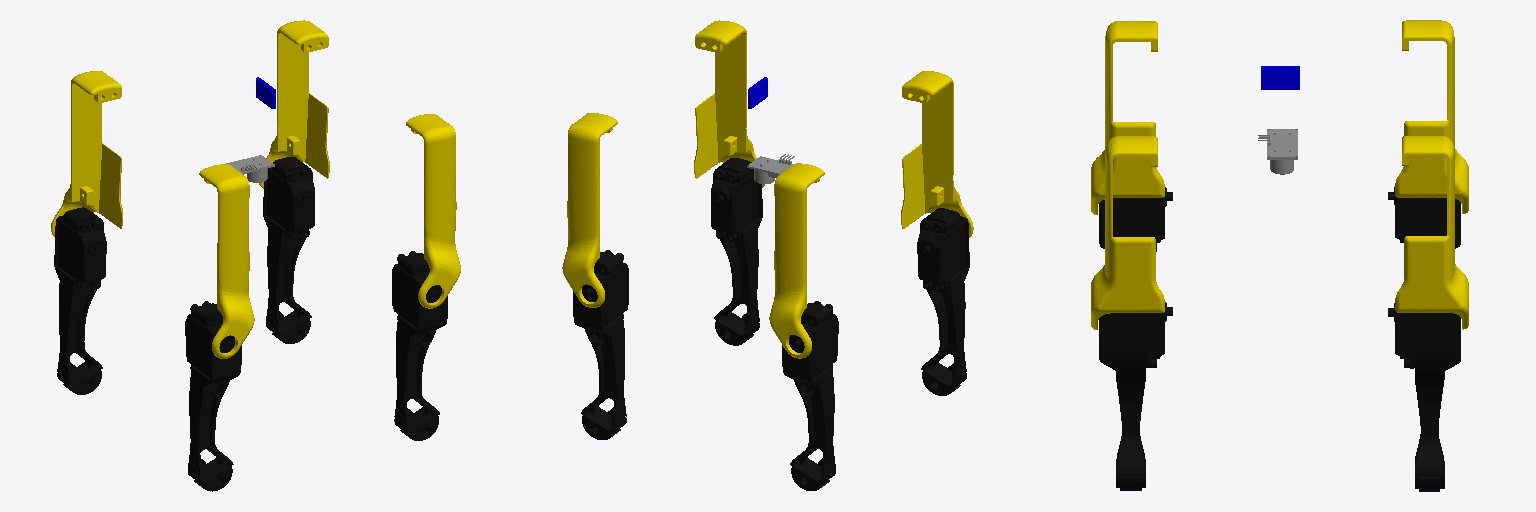
The robot description file, URDF, robot "SpotMicroAI":
<?xml version="1.0" encoding="utf-8"?>
<!-- =================================================================================== -->
<!-- |    This document was autogenerated by xacro from urdf/spotmicroai.urdf.xacro    | -->
<!-- |    EDITING THIS FILE BY HAND IS NOT RECOMMENDED                                 | -->
<!-- =================================================================================== -->
<robot name="SpotMicroAI">
  <material name="yellow">
    <color rgba="0.92 0.83 0.0 1"/>
  </material>
  <material name="black">
    <color rgba="0.1 0.1 0.1 1"/>
  </material>
  <material name="grey">
    <color rgba="0.6 0.6 0.6 1"/>
  </material>
  <material name="blue">
    <color rgba="0.0 0.0 1.0 1"/>
  </material>
  <!-- Params -->
  <!-- Macros -->
  <!-- Robot Body -->
  <link name="base_link">
    <visual>
      <geometry>
        <mesh filename="package://spotmicro_cpp_pkg/mesh/body_frame.STL" scale="0.001 0.001 0.001"/>
      </geometry>
      <material name="black"/>
      <origin rpy="1.571 0 -1.571" xyz="0.1214 0.056 -0.035"/>
    </visual>
    <collision>
      <geometry>
        <box size="0.14 0.114 0.08"/>
      </geometry>
      <origin rpy="0 0 0" xyz="0 0 -0.0025"/>
    </collision>
    <inertial>
      <mass value="1.23"/>
      <origin xyz="0.01228 0.0046 -0.01105 " rpy="0.0 0.0 0.0"/>
      <inertia ixx="0.00126" ixy="0.000312" ixz="-0.000248" iyy="0.00324" iyz="-0.0000715" izz="0.00369"/>
    </inertial>
  </link>

  <link name="imu_link">
    <visual>
      <geometry>
        <box size="0.016 0.026 0.003"/>
      </geometry>
      <material name="blue"/>
      <origin rpy="0 0 0" xyz="0.0 0.0 0.0"/>
    </visual>
    <inertial>
      <origin xyz="0 0 0" rpy="0 0 0"/>
      <mass value="0.01"/>
      <inertia ixx="1.5e-6" ixy="0" ixz="0" iyy="1.5e-6" iyz="0" izz="1.5e-6"/>
    </inertial>
  </link>
  <joint name="base_imu" type="fixed">
    <parent link = "base_link"/>
    <child link = "imu_link"/>
    <origin rpy="0 1.571 0" xyz = "0 0 0.028"/>
  </joint>

  <link name="bottom_hs_sr04_link">
    <visual>
      <geometry>
        <mesh filename="package://spotmicro_cpp_pkg/mesh/HC_SR04.STL" scale="0.001 0.001 0.001"/>
      </geometry>
      <material name="grey"/>
      <origin rpy="0 1.571 0" xyz="-0.01717 -0.013 0.0213"/>
    </visual>
    <inertial>
      <mass value="0.03"/>
      <origin xyz="0 0 0" rpy="0 0 0"/>
      <inertia ixx="0.0001" ixy="0" ixz="0" iyy="0.0001" iyz="0" izz="0.0001"/>
    </inertial>
  </link>
  <joint name="base_hs_sr04" type="fixed">
    <parent link = "base_link"/>
    <child link="bottom_hs_sr04_link"/>
    <origin rpy="0 1.571 0" xyz = "-0.0185 -0.0016 -0.042"/>
  </joint>
  <!-- Lidar Backpack -->
  <!-- <link name="lidar_link">
    <visual>
      <geometry>
        <mesh filename="package://spotmicro_cpp_pkg/meshes/rplidar_main.STL" scale="0.001 0.001 0.001"/>
      </geometry>
      <material name="black"/>
      <origin rpy="1.57075 0 0" xyz="-0.06425 0.02885 0"/>
    </visual>
    <collision>
      <geometry>
        <box size="0.0985 0.0577 0.07"/>
      </geometry>
      <origin rpy="0 0 0" xyz="0 0 0"/>
    </collision>
    <inertial>
      <mass value="0.50"/>
      <inertia ixx="100" ixy="0" ixz="0" iyy="100" iyz="0" izz="100"/>
    </inertial>
  </link>
  <joint name="base_lidar" type="fixed">
    <parent link="base_link"/>
    <child link="lidar_link"/>
    <origin xyz="0 0 0.035"/>
  </joint> -->

  <link name="rear_link">
    <visual>
      <geometry>
        <mesh filename="package://spotmicro_cpp_pkg/mesh/bottom_rear.STL" scale="0.001 0.001 0.001"/>
      </geometry>
      <origin rpy="1.571 0 1.571" xyz="-0.093 -0.064 -0.04499"/>
      <material name="yellow"/>
    </visual>
    <collision>
      <geometry>
        <box size="0.06 0.11 0.07"/>
      </geometry>
      <origin rpy="0 0 0" xyz="0.145 0 0"/>
    </collision>
    <inertial>
      <mass value="0.16"/>
      <origin rpy="0 0 0" xyz="-0.00002 0.03963 0.03773"/>
      <inertia ixx="0.00153" ixy="0" ixz="0" iyy="0.00134" iyz="0.000283" izz="0.000611"/>
    </inertial>
  </link>
  <joint name="base_rear" type="fixed">
    <parent link="base_link"/>
    <child link="rear_link"/>
  </joint>

  <link name="front_link">
    <visual>
      <geometry>
        <mesh filename="package://spotmicro_cpp_pkg/mesh/F_cover.stl" scale="0.001 0.001 0.001"/>
      </geometry>
      <origin rpy="0 0 0" xyz="-0.128 0 0"/>
      <material name="yellow"/>
    </visual>
    <collision>
      <geometry>
        <box size="0.058 0.11 0.07"/>
      </geometry>
      <origin rpy="0 0 0" xyz="-0.145 0 0"/>
    </collision>
    <inertial>
      <mass value="0.5"/>
      <origin xyz="0.00005 0.04624 0.14229" rpy="0.0 0.0 0.0"/>
      <inertia ixx="0.000337" ixy="0" ixz="0" iyy="0.000944" iyz="0.000281" izz="0.00016833347"/>
    </inertial>
  </link>
  <joint name="base_front" type="fixed">
    <parent link="base_link"/>
    <child link="front_link"/>
  </joint>

  <!-- create Legs -->
  <link name="front_left_shoulder_link">
    <visual>
      <geometry>
        <mesh filename="package://spotmicro_cpp_pkg/mesh/LF_RB_shoulder.STL" scale="0.001 0.001 0.001"/>
      </geometry>
      <origin rpy="1.5701 0 0" xyz="-0.03 0.0105 -0.03825"/>
      <material name="black"/>
    </visual>
    <collision>
      <geometry>
        <box size="0.044 0.038 0.07"/>
      </geometry>
      <origin rpy="0 0 0" xyz="0 0 -0.0095"/>
    </collision>
    <inertial>
      <mass value="0.071"/>
      <inertia ixx="0.0000226" ixy="0" ixz="0" iyy="0.0000178" iyz="0" izz="0.0000238"/>
    </inertial>
  </link>
  <link name="front_left_leg_link_cover">
    <visual>
      <geometry>
        <mesh filename="package://spotmicro_cpp_pkg/mesh/L_arm_cover.STL" scale="0.001 0.001 0.001"/>
      </geometry>
      <origin rpy="0 3.142 0" xyz="0.018 -0.0287 0.025"/>
      <material name="yellow"/>
    </visual>
  </link>
  <link name="front_left_leg_link">
    <visual>
      <geometry>
        <mesh filename="package://spotmicro_cpp_pkg/mesh/L_arm.STL" scale="0.001 0.001 0.001"/>
      </geometry>
      <origin rpy="0 3.142 3.142" xyz="-0.02625 0.036 0.13809"/>
      <material name="black"/>
      <!--        <geometry>
          <box size="0.028 0.036 ${leg_length}"/>
        </geometry>
        <origin rpy="0.0 0.0 0.0" xyz="0.0 0.0 -0.050"/>
        <material name="yellow"/>-->
    </visual>
    <collision>
      <origin rpy="0.0 0.0 0.0" xyz="0.0 0.0 -0.035"/>
      <geometry>
        <box size="0.028 0.036 0.12"/>
      </geometry>
    </collision>
    <inertial>
      <mass value="0.124"/>
      <origin xyz="-0.003 0.001 -0.0407" rpy="0.0 0.0 0.0"/>
      <inertia ixx="0.000396" ixy="0" ixz="0.0000184" iyy="0.000038" iyz="-0.000003" izz="0.0000329"/>
    </inertial>
  </link>
  <link name="front_left_foot_link">
    <visual>
      <geometry>
        <mesh filename="package://spotmicro_cpp_pkg/mesh/Left_writs.STL" scale="0.001 0.001 0.001"/>
      </geometry>
      <origin rpy="0 0 -1.571" xyz="-0.014 0.0277 -0.2048"/>
      <material name="black"/>
    </visual>
    <collision>
      <geometry>
        <box size="0.026 0.020 0.115"/>
      </geometry>
      <origin rpy="0.0 0.0 0.0" xyz="0.0 0.0 -0.050"/>
    </collision>
    <inertial>
      <mass value="0.0657"/>
      <origin xyz="0.00066 0.00011 -0.0292" rpy="0.0 0.0 0.0"/>
      <inertia ixx="0.000164" ixy="0" ixz="0" iyy="0.000161" iyz="0" izz="0.0000107"/>
    </inertial>
  </link>
  <link name="front_left_toe_link">
    <visual>
      <geometry>
        <mesh filename="package://spotmicro_cpp_pkg/meshes/foot.stl" scale="0.001 0.001 0.001"/>
      </geometry>
      <origin rpy="0 -0.40010 0" xyz="0.001 -0.0105 0"/>
      <material name="grey"/>
    </visual>
    <collision>
      <geometry>
        <sphere radius="0.02"/>
      </geometry>
      <origin rpy="0 0 0" xyz="0 0 0"/>
      <contact_coefficients mu="1.1"/>
    </collision>
    <inertial>
      <mass value="0.05"/>
      <inertia ixx="1000" ixy="0" ixz="0" iyy="1000" iyz="0" izz="1000"/>
    </inertial>
  </link>


  <joint name="front_left_shoulder" type="revolute">
    <parent link="base_link"/>
    <child link="front_left_shoulder_link"/>
    <axis xyz="1 0 0"/>
    <origin rpy="0 0 0" xyz="-0.09165 -0.039 0.009"/>
    <limit effort="1000.0" lower="-0.872" upper="0.698" velocity="0.7"/>
    <dynamics damping="0.0" friction="0.5"/>
  </joint>
  <joint name="front_left_leg" type="revolute">
    <parent link="front_left_shoulder_link"/>
    <child link="front_left_leg_link"/>
    <axis xyz="0 1 0"/>
    <origin rpy="0 0 0" xyz="0 -0.0597 -0.01"/>
    <limit effort="1000.0" lower="-1.570" upper="1.570" velocity="0.5"/>
    <dynamics damping="0.0" friction="0.0"/>
  </joint>
  <joint name="front_left_leg_cover_joint" type="fixed">
    <parent link="front_left_leg_link"/>
    <child link="front_left_leg_link_cover"/>
    <origin xyz="0 0 0"/>
  </joint>
  <joint name="front_left_foot" type="revolute">
    <parent link="front_left_leg_link"/>
    <child link="front_left_foot_link"/>
    <axis xyz="0 1 0"/>
    <origin rpy="0 0 0" xyz="-0.01475 0 -0.10699"/>
    <limit effort="1000.0" lower="-0.174" upper="2.268" velocity="0.5"/>
    <dynamics damping="0.0" friction="0.5"/>
  </joint>
  <joint name="front_left_toe" type="fixed">
    <parent link="front_left_foot_link"/>
    <child link="front_left_toe_link"/>
    <origin xyz="0 0 -0.115"/>
  </joint>


  <link name="front_right_shoulder_link">
    <visual>
      <geometry>
        <mesh filename="package://spotmicro_cpp_pkg/mesh/LB_RF_shoulder.STL" scale="0.001 0.001 0.001"/>
      </geometry>
      <origin rpy="1.5701 0 3.142" xyz="0.025 -0.01 -0.03825"/>
      <material name="black"/>
    </visual>
    <collision>
      <geometry>
        <box size="0.044 0.038 0.07"/>
      </geometry>
      <origin rpy="0 0 0" xyz="0 0 -0.0095"/>
    </collision>
    <inertial>
      <mass value="0.071"/>
      <inertia ixx="0.000033462" ixy="0" ixz="0" iyy="0.00003153" iyz="-0.000005" izz="0.000021"/>
    </inertial>
  </link>
  <link name="front_right_leg_link_cover">
    <visual>
      <geometry>
        <mesh filename="package://spotmicro_cpp_pkg/mesh/R_arm_cover.STL" scale="0.001 0.001 0.001"/>
      </geometry>
      <origin rpy="0 3.142 0" xyz="0.018 -0.0222 0.025"/>
      <material name="yellow"/>
    </visual>
  </link>
  <link name="front_right_leg_link">
    <visual>
      <geometry>
        <mesh filename="package://spotmicro_cpp_pkg/mesh/R_arm.STL" scale="0.001 0.001 0.001"/>
      </geometry>
      <origin rpy="0 3.142 3.142" xyz="-0.027 0.0275 0.02029"/>
      <material name="black"/>
      <!--        <geometry>
          <box size="0.028 0.036 ${leg_length}"/>
        </geometry>
        <origin rpy="0.0 0.0 0.0" xyz="0.0 0.0 -0.050"/>
        <material name="yellow"/>-->
    </visual>
    <collision>
      <origin rpy="0.0 0.0 0.0" xyz="0.0 0.0 -0.035"/>
      <geometry>
        <box size="0.028 0.036 0.12"/>
      </geometry>
    </collision>
    <inertial>
      <mass value="0.124"/>
      <origin xyz="-0.003 -0.001 -0.041" rpy="0.0 0.0 0.0"/>
      <inertia ixx="0.000396" ixy="0" ixz="0.0000184" iyy="0.000381" iyz="0" izz="0.0000329"/>
    </inertial>
  </link>
  <link name="front_right_foot_link">
    <visual>
      <geometry>
        <mesh filename="package://spotmicro_cpp_pkg/mesh/Right_writs.STL" scale="0.001 0.001 0.001"/>
      </geometry>
      <origin rpy="0 0 -1.571" xyz="-0.014 0.027 -0.131"/>
      <material name="black"/>
    </visual>
    <collision>
      <geometry>
        <box size="0.026 0.020 0.115"/>
      </geometry>
      <origin rpy="0.0 0.0 0.0" xyz="0.0 0.0 -0.050"/>
    </collision>
    <inertial>
      <mass value="0.066"/>
      <origin xyz="-0.0001 -0.0007 -0.029" rpy="0.0 0.0 0.0"/>
      <inertia ixx="0.000161" ixy="0" ixz="0" iyy="0.000164" iyz="-0.0000017" izz="0.000011"/>
    </inertial>
  </link>
  <link name="front_right_toe_link">
    <visual>
      <geometry>
        <mesh filename="package://spotmicro_cpp_pkg/meshes/foot.stl" scale="0.001 0.001 0.001"/>
      </geometry>
      <origin rpy="0 -0.40010 0" xyz="-0.001 -0.0095 0"/>
      <material name="grey"/>
    </visual>
    <collision>
      <geometry>
        <sphere radius="0.02"/>
      </geometry>
      <origin rpy="0 0 0" xyz="0 0 0"/>
      <contact_coefficients mu="1.1"/>
    </collision>
    <inertial>
      <mass value="0.05"/>
      <inertia ixx="1000" ixy="0" ixz="0" iyy="1000" iyz="0" izz="1000"/>
    </inertial>
  </link>

  <joint name="front_right_shoulder" type="revolute">
    <parent link="base_link"/>
    <child link="front_right_shoulder_link"/>
    <axis xyz="1 0 0"/>
    <origin rpy="0 0 0" xyz="-0.09165 0.039 0.009"/>
    <limit effort="1000.0" lower="-0.872" upper="0.698" velocity="0.7"/>
    <dynamics damping="0.0" friction="0.5"/>
  </joint>
  <joint name="front_right_leg" type="revolute">
    <parent link="front_right_shoulder_link"/>
    <child link="front_right_leg_link"/>
    <axis xyz="0 1 0"/>
    <origin rpy="0 0 0" xyz="0 0.0597 -0.01"/>
    <limit effort="1000.0" lower="-1.57" upper="1.57" velocity="0.5"/>
    <dynamics damping="0.0" friction="0.0"/>
  </joint>
  <joint name="front_right_leg_cover_joint" type="fixed">
    <parent link="front_right_leg_link"/>
    <child link="front_right_leg_link_cover"/>
    <origin xyz="0 0 0"/>
  </joint>
  <joint name="front_right_foot" type="revolute">
    <parent link="front_right_leg_link"/>
    <child link="front_right_foot_link"/>
    <axis xyz="0 1 0"/>
    <origin rpy="0 0 0" xyz="-0.01475 0 -0.10699"/>
    <limit effort="1000.0" lower="-0.174" upper="2.268" velocity="0.5"/>
    <dynamics damping="0.0" friction="0.5"/>
  </joint>
  <joint name="front_right_toe" type="fixed">
    <parent link="front_right_foot_link"/>
    <child link="front_right_toe_link"/>
    <origin xyz="0 0 -0.115"/>
  </joint>

  <link name="rear_left_shoulder_link">
    <visual>
      <geometry>
        <mesh filename="package://spotmicro_cpp_pkg/mesh/LB_RF_shoulder.STL" scale="0.001 0.001 0.001"/>
      </geometry>
      <origin rpy="1.5701 0 0" xyz="-0.028 0.01 -0.03825"/>
      <material name="black"/>
    </visual>
    <collision>
      <geometry>
        <box size="0.044 0.038 0.07"/>
      </geometry>
      <origin rpy="0 0 0" xyz="0 0 -0.0095"/>
    </collision>
    <inertial>
      <mass value="0.071"/>
      <inertia ixx="0.0000335" ixy="0" ixz="0" iyy="0.0000315" iyz="0" izz="0.0000207"/>
    </inertial>
  </link>
  <link name="rear_left_leg_link_cover">
    <visual>
      <geometry>
        <mesh filename="package://spotmicro_cpp_pkg/mesh/L_arm_cover.STL" scale="0.001 0.001 0.001"/>
      </geometry>
      <origin rpy="0 3.142 0" xyz="0.016 -0.0287 0.025"/>
      <material name="yellow"/>
    </visual>
  </link>
  <link name="rear_left_leg_link">
    <visual>
      <geometry>
        <mesh filename="package://spotmicro_cpp_pkg/mesh/L_arm.STL" scale="0.001 0.001 0.001"/>
      </geometry>
      <origin rpy="0 3.142 3.142" xyz="-0.02825 0.036 0.13809"/>
      <material name="black"/>
      <!--        <geometry>
          <box size="0.028 0.036 ${leg_length}"/>
        </geometry>
        <origin rpy="0.0 0.0 0.0" xyz="0.0 0.0 -0.050"/>
        <material name="yellow"/>-->
    </visual>
    <collision>
      <origin rpy="0.0 0.0 0.0" xyz="0.0 0.0 -0.035"/>
      <geometry>
        <box size="0.028 0.036 0.12"/>
      </geometry>
    </collision>
    <inertial>
      <mass value="0.124"/>
      <origin xyz="-0.003 0.001 -0.0407" rpy="0.0 0.0 0.0"/>
      <inertia ixx="0.000396" ixy="0" ixz="0.0000184" iyy="0.000038" iyz="-0.000003" izz="0.0000329"/>
    </inertial>
  </link>
  <link name="rear_left_foot_link">
    <visual>
      <geometry>
        <mesh filename="package://spotmicro_cpp_pkg/mesh/Left_writs.STL" scale="0.001 0.001 0.001"/>
      </geometry>
      <origin rpy="0 0 -1.571" xyz="-0.016 0.0277 -0.2048"/>
      <material name="black"/>
    </visual>
    <collision>
      <geometry>
        <box size="0.026 0.020 0.115"/>
      </geometry>
      <origin rpy="0.0 0.0 0.0" xyz="0.0 0.0 -0.050"/>
    </collision>
    <inertial>
      <mass value="0.0657"/>
      <origin xyz="0.00066 0.00011 -0.0292" rpy="0.0 0.0 0.0"/>
      <inertia ixx="0.000164" ixy="0" ixz="0" iyy="0.000161" iyz="0" izz="0.0000107"/>
    </inertial>
  </link>
  <link name="rear_left_toe_link">
    <visual>
      <geometry>
        <mesh filename="package://spotmicro_cpp_pkg/meshes/foot.stl" scale="0.001 0.001 0.001"/>
      </geometry>
      <origin rpy="0 -0.40010 0" xyz="-0.001 -0.0105 0"/>
      <material name="grey"/>
    </visual>
    <collision>
      <geometry>
        <sphere radius="0.02"/>
      </geometry>
      <origin rpy="0 0 0" xyz="0 0 0"/>
      <contact_coefficients mu="1.1"/>
    </collision>
    <inertial>
      <mass value="0.05"/>
      <inertia ixx="1000" ixy="0" ixz="0" iyy="1000" iyz="0" izz="1000"/>
    </inertial>
  </link>

  <joint name="rear_left_shoulder" type="revolute">
    <parent link="base_link"/>
    <child link="rear_left_shoulder_link"/>
    <axis xyz="1 0 0"/>
    <origin rpy="0 0 0" xyz="0.09165 -0.039 0.009"/>
    <limit effort="1000.0" lower="-0.872" upper="0.698" velocity="0.7"/>
    <dynamics damping="0.0" friction="0.5"/>
  </joint>
  <joint name="rear_left_leg" type="revolute">
    <parent link="rear_left_shoulder_link"/>
    <child link="rear_left_leg_link"/>
    <axis xyz="0 1 0"/>
    <origin rpy="0 0 0" xyz="0 -0.0597 -0.01"/>
    <limit effort="1000.0" lower="-1.57" upper="1.57" velocity="0.5"/>
    <dynamics damping="0.0" friction="0.0"/>
  </joint>
  <joint name="rear_left_leg_cover_joint" type="fixed">
    <parent link="rear_left_leg_link"/>
    <child link="rear_left_leg_link_cover"/>
    <origin xyz="0 0 0"/>
  </joint>
  <joint name="rear_left_foot" type="revolute">
    <parent link="rear_left_leg_link"/>
    <child link="rear_left_foot_link"/>
    <axis xyz="0 1 0"/>
    <origin rpy="0 0 0" xyz="-0.01475 0 -0.10699"/>
    <limit effort="1000.0" lower="-0.174" upper="2.268" velocity="0.5"/>
    <dynamics damping="0.0" friction="0.5"/>
  </joint>
  <joint name="rear_left_toe" type="fixed">
    <parent link="rear_left_foot_link"/>
    <child link="rear_left_toe_link"/>
    <origin xyz="0 0 -0.115"/>
  </joint>


  <link name="rear_right_shoulder_link">
    <visual>
      <geometry>
        <mesh filename="package://spotmicro_cpp_pkg/mesh/LF_RB_shoulder.STL" scale="0.001 0.001 0.001"/>
      </geometry>
      <origin rpy="1.5701 0 3.142" xyz="0.027 -0.0102 -0.03825"/>
      <material name="black"/>
    </visual>
    <collision>
      <geometry>
        <box size="0.044 0.038 0.07"/>
      </geometry>
      <origin rpy="0 0 0" xyz="0 0 -0.0095"/>
    </collision>
    <inertial>
      <mass value="0.10"/>
      <inertia ixx="100" ixy="0" ixz="0" iyy="100" iyz="0" izz="100"/>
    </inertial>
  </link>
  <link name="rear_right_leg_link_cover">
    <visual>
      <geometry>
        <mesh filename="package://spotmicro_cpp_pkg/mesh/R_arm_cover.STL" scale="0.001 0.001 0.001"/>
      </geometry>
      <origin rpy="0 3.142 0" xyz="0.016 -0.0222 0.025"/>
      <material name="yellow"/>
    </visual>
  </link>
  <link name="rear_right_leg_link">
    <visual>
      <geometry>
        <mesh filename="package://spotmicro_cpp_pkg/mesh/R_arm.STL" scale="0.001 0.001 0.001"/>
      </geometry>
      <origin rpy="0 3.142 3.142" xyz="-0.029 0.0275 0.02029"/>
      <material name="black"/>
      <!--        <geometry>
          <box size="0.028 0.036 ${leg_length}"/>
        </geometry>
        <origin rpy="0.0 0.0 0.0" xyz="0.0 0.0 -0.050"/>
        <material name="yellow"/>-->
    </visual>
    <collision>
      <origin rpy="0.0 0.0 0.0" xyz="0.0 0.0 -0.035"/>
      <geometry>
        <box size="0.028 0.036 0.12"/>
      </geometry>
    </collision>
    <inertial>
      <mass value="0.124"/>
      <origin xyz="-0.003 -0.001 -0.041" rpy="0.0 0.0 0.0"/>
      <inertia ixx="0.000396" ixy="0" ixz="0.0000184" iyy="0.000381" iyz="0" izz="0.0000329"/>
    </inertial>
  </link>
  <link name="rear_right_foot_link">
    <visual>
      <geometry>
        <mesh filename="package://spotmicro_cpp_pkg/mesh/Right_writs.STL" scale="0.001 0.001 0.001"/>
      </geometry>
      <origin rpy="0 0 -1.571" xyz="-0.014 0.027 -0.131"/>
      <material name="black"/>
    </visual>
    <collision>
      <geometry>
        <box size="0.026 0.020 0.115"/>
      </geometry>
      <origin rpy="0.0 0.0 0.0" xyz="0.0 0.0 -0.050"/>
    </collision>
    <inertial>
      <mass value="0.066"/>
      <origin xyz="-0.0001 -0.0007 -0.029" rpy="0.0 0.0 0.0"/>
      <inertia ixx="0.000161" ixy="0" ixz="0" iyy="0.000164" iyz="-0.0000017" izz="0.000011"/>
    </inertial>
  </link>
  <link name="rear_right_toe_link">
    <visual>
      <geometry>
        <mesh filename="package://spotmicro_cpp_pkg/meshes/foot.stl" scale="0.001 0.001 0.001"/>
      </geometry>
      <origin rpy="0 -0.40010 0" xyz="0 -0.01 0"/>
      <material name="grey"/>
    </visual>
    <collision>
      <geometry>
        <sphere radius="0.02"/>
      </geometry>
      <origin rpy="0 0 0" xyz="0 0 0"/>
      <contact_coefficients mu="1.1"/>
    </collision>
    <inertial>
      <mass value="0.05"/>
      <inertia ixx="1000" ixy="0" ixz="0" iyy="1000" iyz="0" izz="1000"/>
    </inertial>
  </link>

  <joint name="rear_right_shoulder" type="revolute">
    <parent link="base_link"/>
    <child link="rear_right_shoulder_link"/>
    <axis xyz="1 0 0"/>
    <origin rpy="0 0 0" xyz="0.09165 0.039 0.009"/>
    <limit effort="1000.0" lower="-0.872" upper="0.698" velocity="0.7"/>
    <dynamics damping="0.0" friction="0.5"/>
  </joint>
  <joint name="rear_right_leg" type="revolute">
    <parent link="rear_right_shoulder_link"/>
    <child link="rear_right_leg_link"/>
    <axis xyz="0 1 0"/>
    <origin rpy="0 0 0" xyz="0 0.0597 -0.01"/>
    <limit effort="1000.0" lower="-1.57" upper="1.57" velocity="0.5"/>
    <dynamics damping="0.0" friction="0.0"/>
  </joint>
  <joint name="rear_right_leg_cover_joint" type="fixed">
    <parent link="rear_right_leg_link"/>
    <child link="rear_right_leg_link_cover"/>
    <origin xyz="0 0 0"/>
  </joint>
  <joint name="rear_right_foot" type="revolute">
    <parent link="rear_right_leg_link"/>
    <child link="rear_right_foot_link"/>
    <axis xyz="0 1 0"/>
    <origin rpy="0 0 0" xyz="-0.01475 0 -0.10699"/>
    <limit effort="1000.0" lower="-0.174" upper="2.268" velocity="0.5"/>
    <dynamics damping="0.0" friction="0.5"/>
  </joint>
  <joint name="rear_right_toe" type="fixed">
    <parent link="rear_right_foot_link"/>
    <child link="rear_right_toe_link"/>
    <origin xyz="0 0 -0.115"/>
  </joint>
</robot>

--- Render facts (derived) ---
3 views of the same robot in one strip: view 1: azimuth 30°, elevation 25°; view 2: azimuth 150°, elevation 25°; view 3: azimuth 270°, elevation 25° (orthographic).
Robot: SpotMicroAI — 25 links, 24 joints (12 revolute, 12 fixed); root link base_link; default pose: every joint at zero.
Visible links, largest first — view 1: front_right_foot_link, rear_right_foot_link, front_left_foot_link, rear_left_foot_link, front_right_leg_link_cover, rear_right_leg_link_cover, rear_left_leg_link_cover, front_left_leg_link_cover, bottom_hs_sr04_link; view 2: front_left_foot_link, rear_left_foot_link, front_left_leg_link_cover, front_right_foot_link, rear_left_leg_link_cover, rear_right_foot_link, front_right_leg_link_cover, rear_right_leg_link_cover, bottom_hs_sr04_link; view 3: rear_right_foot_link, rear_left_foot_link, rear_right_leg_link_cover, rear_left_leg_link_cover, front_right_leg_link_cover, front_left_leg_link_cover, front_left_foot_link, front_right_foot_link, bottom_hs_sr04_link, imu_link.
Link boxes in pixels (left/top/right/bottom): front_right_foot_link: left=54, top=207, right=106, bottom=394; rear_right_foot_link: left=263, top=157, right=314, bottom=343; front_left_foot_link: left=185, top=301, right=241, bottom=491; rear_left_foot_link: left=392, top=251, right=447, bottom=440; front_right_leg_link_cover: left=51, top=71, right=122, bottom=236; rear_right_leg_link_cover: left=259, top=20, right=329, bottom=188; rear_left_leg_link_cover: left=406, top=114, right=460, bottom=308; front_left_leg_link_cover: left=199, top=164, right=254, bottom=358; bottom_hs_sr04_link: left=226, top=155, right=274, bottom=182; front_left_foot_link: left=917, top=208, right=969, bottom=395; rear_left_foot_link: left=711, top=158, right=762, bottom=345; front_left_leg_link_cover: left=901, top=71, right=973, bottom=237; front_right_foot_link: left=782, top=301, right=838, bottom=490; rear_left_leg_link_cover: left=694, top=20, right=764, bottom=187; rear_right_foot_link: left=573, top=250, right=628, bottom=439; front_right_leg_link_cover: left=769, top=163, right=824, bottom=358; rear_right_leg_link_cover: left=562, top=113, right=617, bottom=307; bottom_hs_sr04_link: left=747, top=154, right=794, bottom=183; rear_right_foot_link: left=1388, top=303, right=1460, bottom=491; rear_left_foot_link: left=1099, top=302, right=1172, bottom=490; rear_right_leg_link_cover: left=1395, top=136, right=1468, bottom=329; rear_left_leg_link_cover: left=1091, top=136, right=1164, bottom=329; front_right_leg_link_cover: left=1395, top=20, right=1468, bottom=213; front_left_leg_link_cover: left=1091, top=21, right=1164, bottom=214; front_left_foot_link: left=1099, top=187, right=1172, bottom=251; front_right_foot_link: left=1388, top=187, right=1460, bottom=248; bottom_hs_sr04_link: left=1258, top=129, right=1297, bottom=174; imu_link: left=1261, top=66, right=1299, bottom=89.
Size in the robot's own frame: 0.2247 by 0.2519 by 0.2742 metres.
Meshes: 13 distinct files referenced, 9 mesh visuals loaded (5 binary STL); not drawn: 15 (reference not matched to a file when rendering).